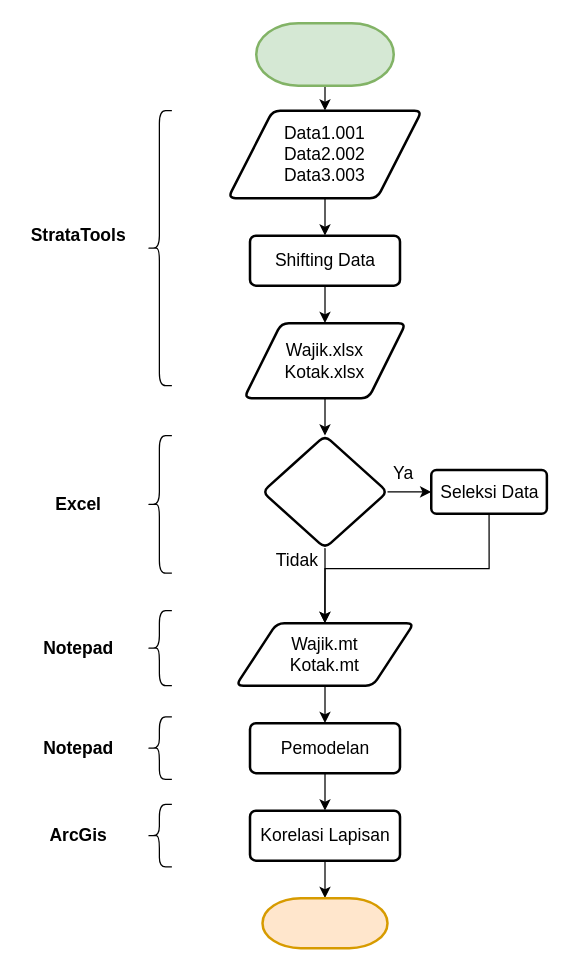
Image size: 569x970. Some labels were removed from this diagram. The box of each missing label's shape, as (x1, y1, x2, y2) in pixels:
MULAI: (254, 21, 394, 86)
Pencilan?: (261, 434, 388, 549)
SELESAI: (261, 896, 388, 949)
